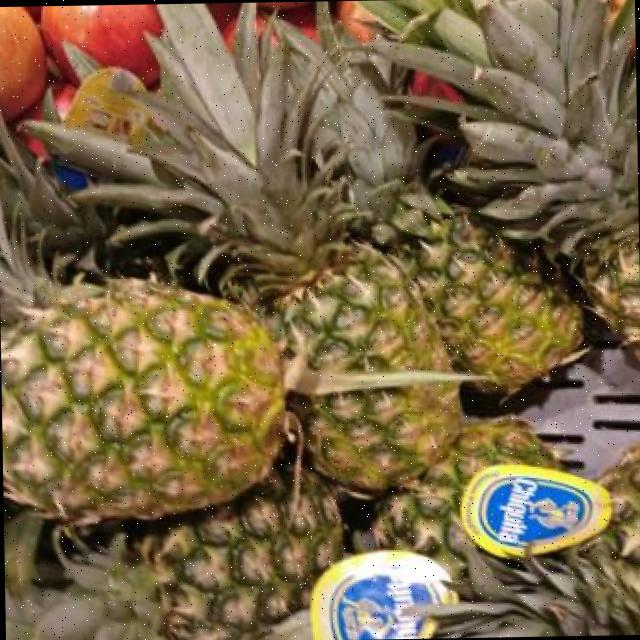pineapple: (27, 1, 459, 488), (3, 280, 483, 517), (28, 487, 343, 640), (391, 191, 581, 383), (369, 422, 552, 576), (138, 379, 140, 408)
